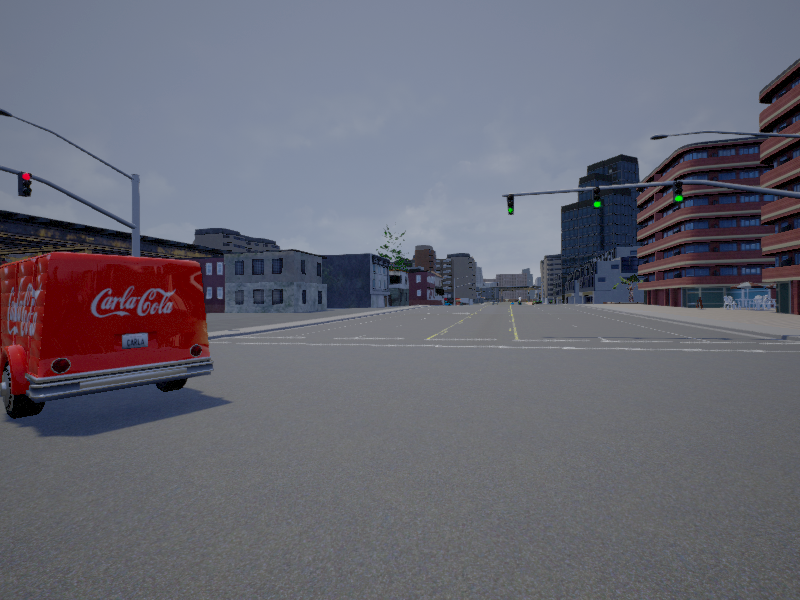Benign: (1, 252, 211, 414)
